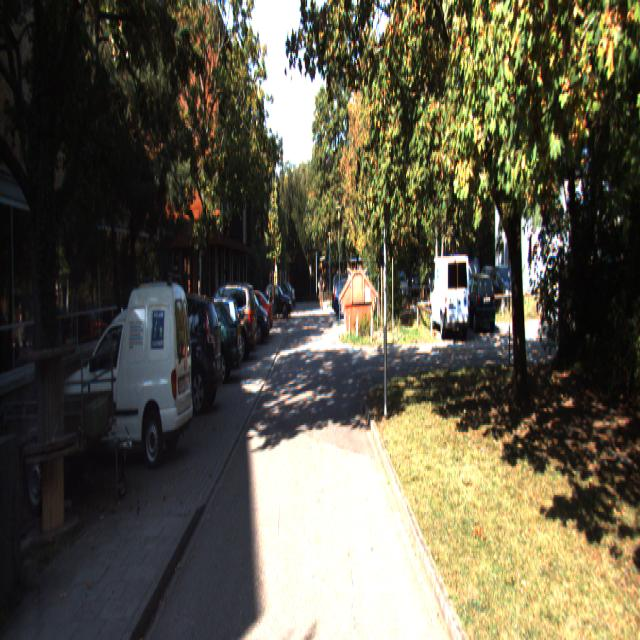Car: (62, 275, 195, 472), (123, 290, 224, 418), (167, 299, 244, 386), (190, 281, 258, 365), (184, 294, 243, 373), (427, 252, 471, 342), (459, 271, 498, 333)
DontCare: (245, 276, 294, 334), (331, 270, 361, 317), (393, 266, 423, 308), (317, 269, 324, 311)
